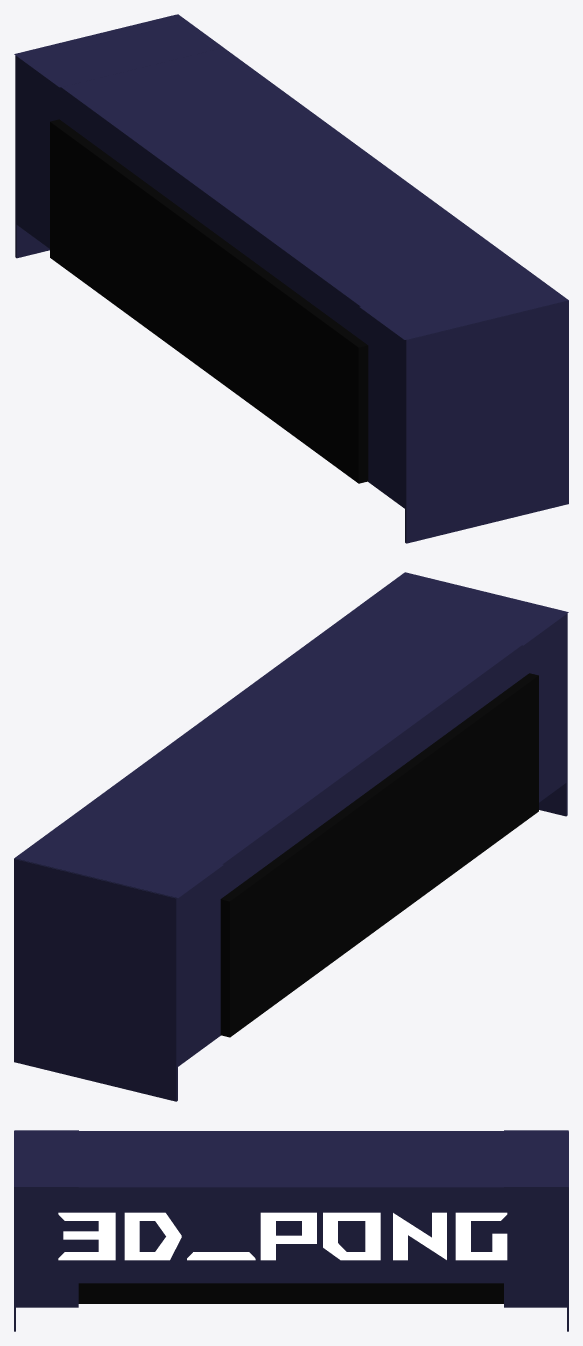
The model's file is p3d_table.gltf.
The picture shows the model from 3 angles, top to bottom: view 1: azimuth 30°, elevation 25°; view 2: azimuth 150°, elevation 25°; view 3: azimuth 270°, elevation 25°; orthographic projection. The views are drawn at different scales.
Parts seen in each view (by area): view 1: Object_42.002, Object_3.002, Object_14.002, Object_15.002; view 2: Object_42.002, Object_3.002, Object_14.002, Object_15.002; view 3: Object_42.002, Object_15.002, Text.002, Object_3.002, Object_14.002.
Boxes of the visible parts, bbox=[...] form: Object_42.002: bbox=[15, 47, 568, 543]; Object_3.002: bbox=[50, 119, 368, 483]; Object_14.002: bbox=[14, 14, 566, 339]; Object_15.002: bbox=[15, 14, 568, 509]; Object_42.002: bbox=[14, 605, 567, 1101]; Object_3.002: bbox=[220, 673, 538, 1037]; Object_14.002: bbox=[16, 572, 568, 897]; Object_15.002: bbox=[14, 572, 567, 1067]; Object_42.002: bbox=[14, 1131, 568, 1331]; Object_15.002: bbox=[14, 1131, 568, 1307]; Text.002: bbox=[58, 1212, 507, 1260]; Object_3.002: bbox=[78, 1283, 503, 1303]; Object_14.002: bbox=[14, 1130, 568, 1186].
Size of the model in its own units: 0.8919 by 0.9848 by 3.43.
